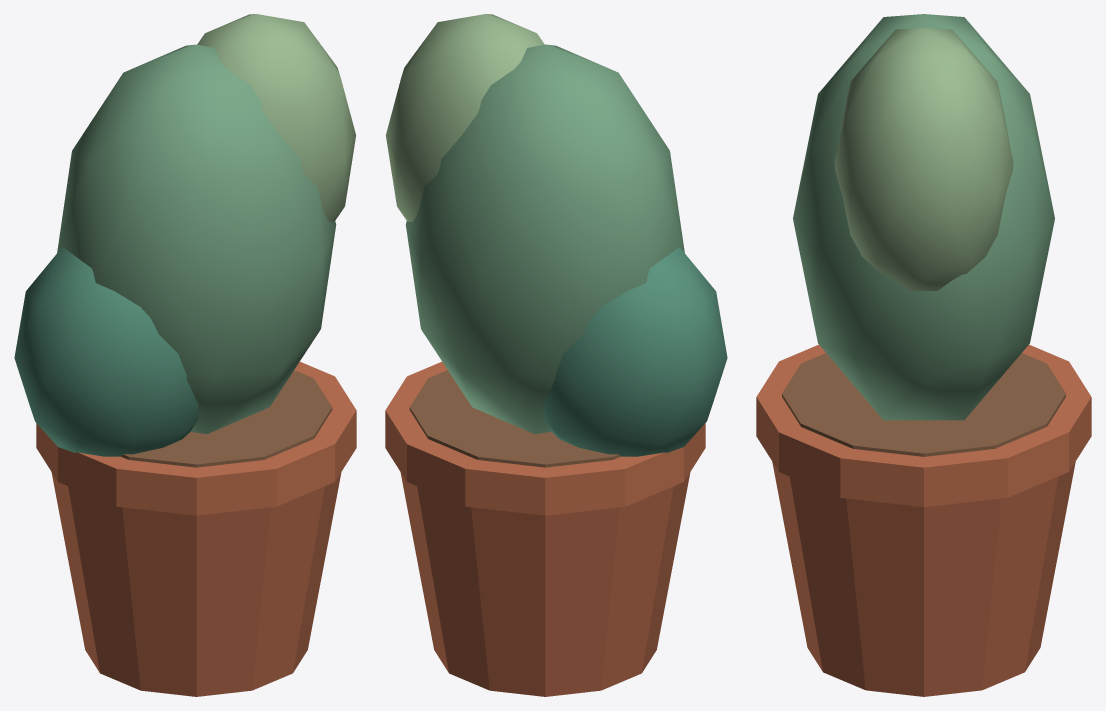
Rendered from tpe5_potted_plant.glb.
3 views of the same model, side by side, from view 1: azimuth 30°, elevation 25°; view 2: azimuth 150°, elevation 25°; view 3: azimuth 270°, elevation 25° (orthographic). The views are drawn at different scales.
Parts seen in each view (by area): view 1: tpe5_potted_plant__tpe5-leaf-sage, tpe5_potted_plant__tpe5-street-cinnabar, tpe5_potted_plant__tpe5-street-jade, tpe5_potted_plant__tpe5-leaf-light, tpe5_potted_plant__tpe5-street-walnut; view 2: tpe5_potted_plant__tpe5-leaf-sage, tpe5_potted_plant__tpe5-street-cinnabar, tpe5_potted_plant__tpe5-street-jade, tpe5_potted_plant__tpe5-leaf-light, tpe5_potted_plant__tpe5-street-walnut; view 3: tpe5_potted_plant__tpe5-street-cinnabar, tpe5_potted_plant__tpe5-leaf-sage, tpe5_potted_plant__tpe5-leaf-light, tpe5_potted_plant__tpe5-street-walnut.
Part boxes in pixels (x1,y1,x2,y2): tpe5_potted_plant__tpe5-leaf-sage: (57, 44, 336, 434); tpe5_potted_plant__tpe5-street-cinnabar: (36, 361, 356, 696); tpe5_potted_plant__tpe5-street-jade: (14, 247, 198, 456); tpe5_potted_plant__tpe5-leaf-light: (197, 14, 355, 222); tpe5_potted_plant__tpe5-street-walnut: (121, 370, 332, 467); tpe5_potted_plant__tpe5-leaf-sage: (405, 44, 684, 434); tpe5_potted_plant__tpe5-street-cinnabar: (385, 361, 705, 696); tpe5_potted_plant__tpe5-street-jade: (543, 247, 727, 456); tpe5_potted_plant__tpe5-leaf-light: (386, 14, 544, 222); tpe5_potted_plant__tpe5-street-walnut: (409, 370, 620, 467); tpe5_potted_plant__tpe5-street-cinnabar: (756, 344, 1091, 696); tpe5_potted_plant__tpe5-leaf-sage: (793, 14, 1054, 420); tpe5_potted_plant__tpe5-leaf-light: (834, 28, 1013, 290); tpe5_potted_plant__tpe5-street-walnut: (782, 353, 1065, 456).
Bounding box in the file's own units: 1.04 × 1.97 × 0.92.
